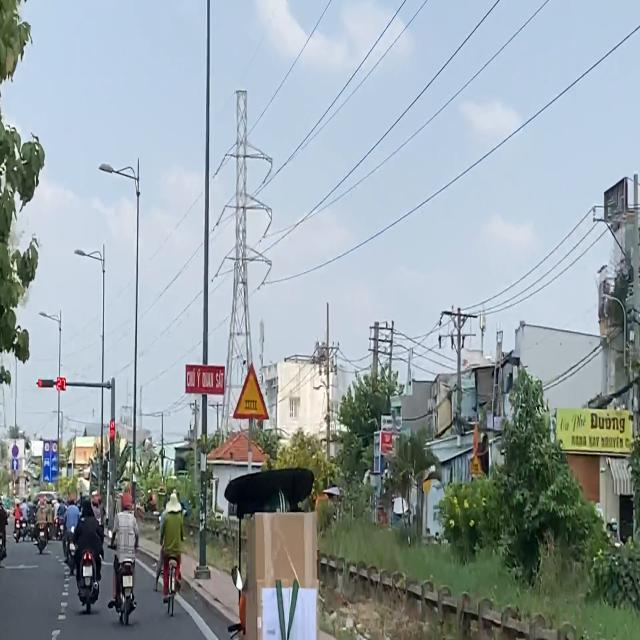Nguy hiem: (232, 363, 270, 420)
